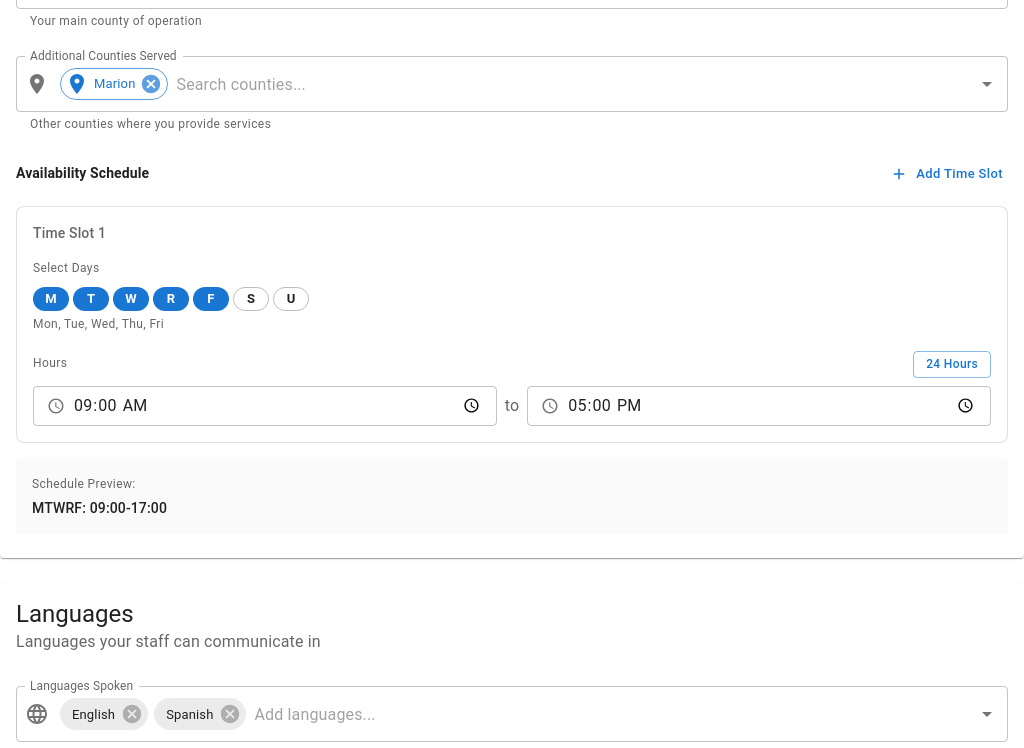
Scenario: Edit Agency Page - Component Tests › Availability Schedule › 24 Hours Toggle › enables 24 hours mode when clicked
The width and height of the screenshot is (1024, 748).
(page scrolled)
Click the button "24 Hours". click: {"x": 952, "y": 364}
box: [913, 350, 991, 378]
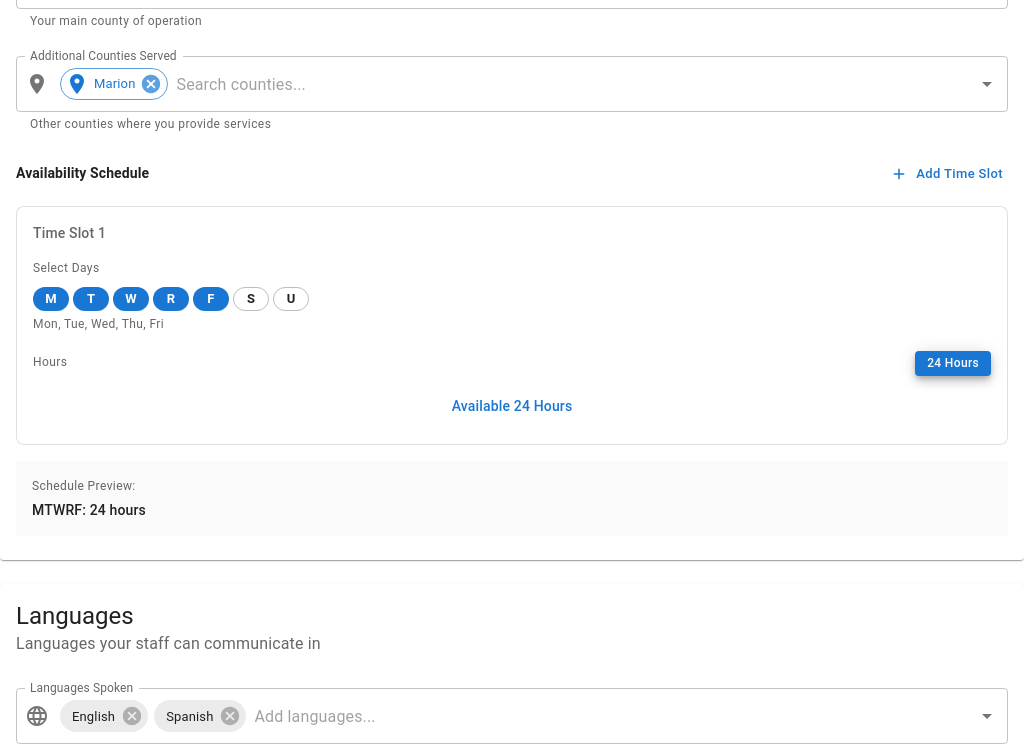
Now the text "Available 24 Hours" is shown, box [452, 398, 572, 414]
